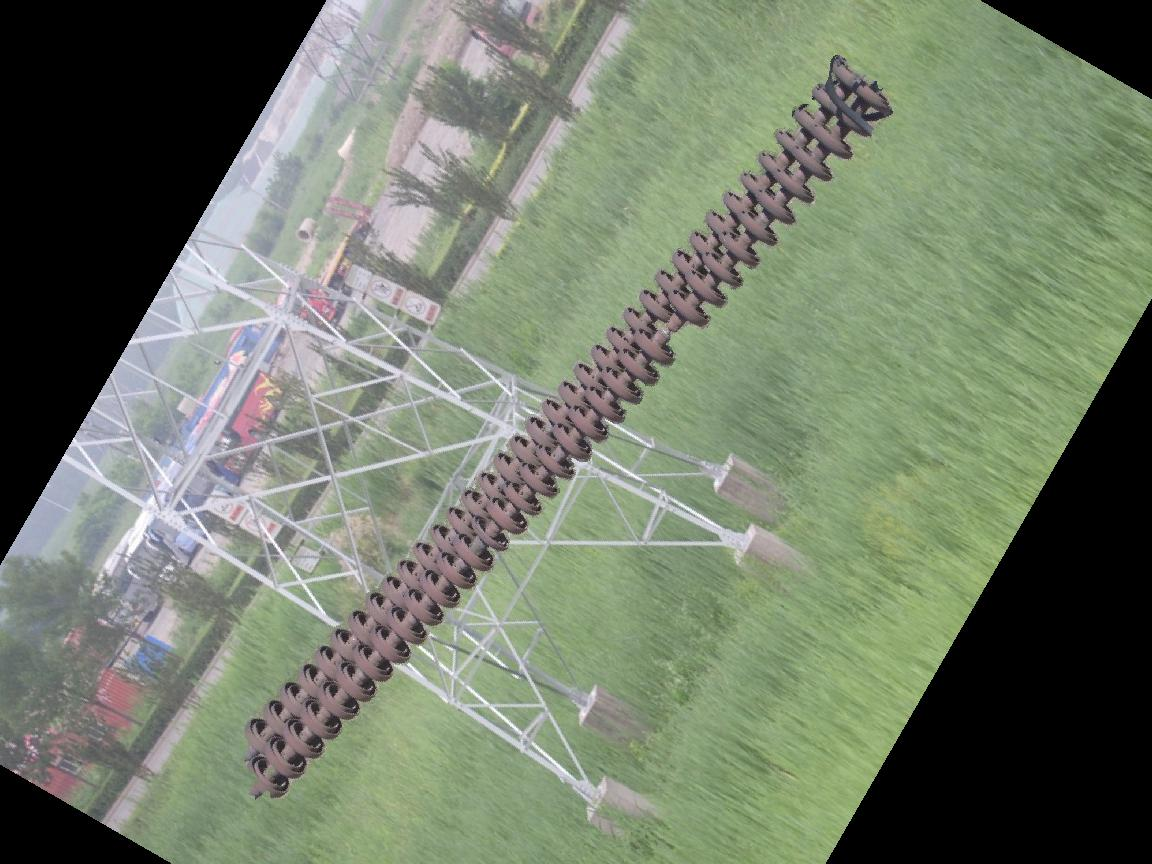insulator: (233, 52, 891, 802)
insulator_stringdrop: (629, 287, 713, 370)
